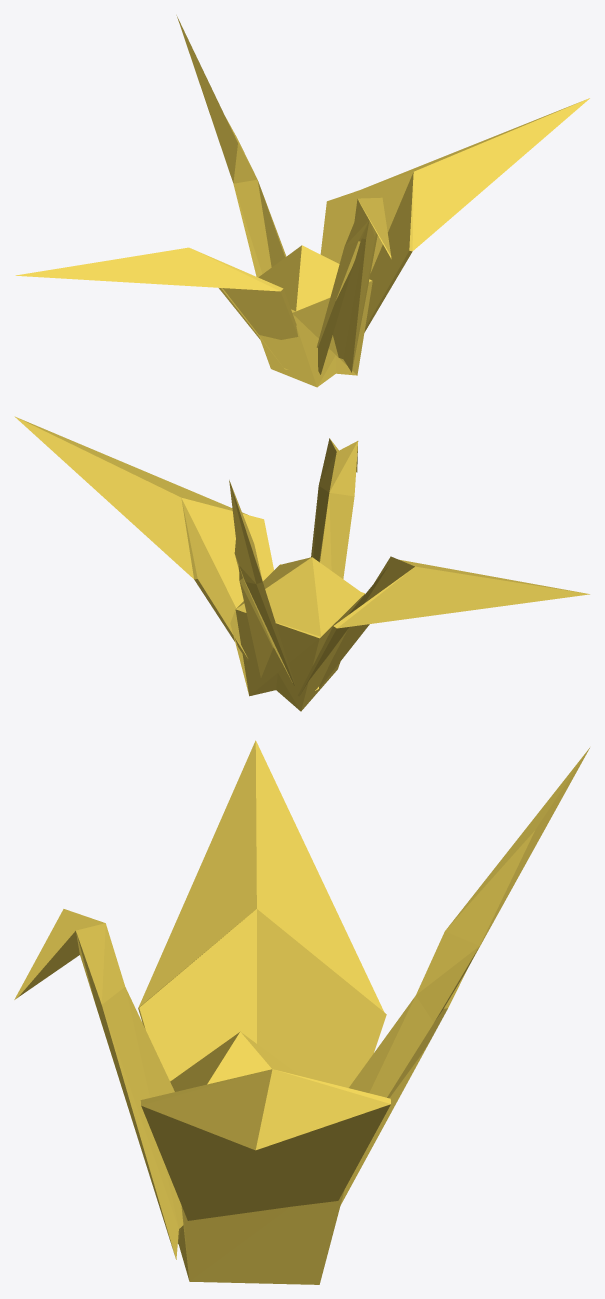
The model's file is grulla.glb.
3 views of the same model, one above another, from view 1: azimuth 30°, elevation 25°; view 2: azimuth 150°, elevation 25°; view 3: azimuth 270°, elevation 25° (orthographic). The views are drawn at different scales.
Parts seen in each view (by area): view 1: default; view 2: default; view 3: default.
Boxes of the visible parts, x1=… form: default: x1=15, y1=15, x2=589, y2=387; default: x1=14, y1=416, x2=589, y2=711; default: x1=14, y1=740, x2=589, y2=1284.
Bounding box in the file's own units: 129 × 63.52 × 66.7.
